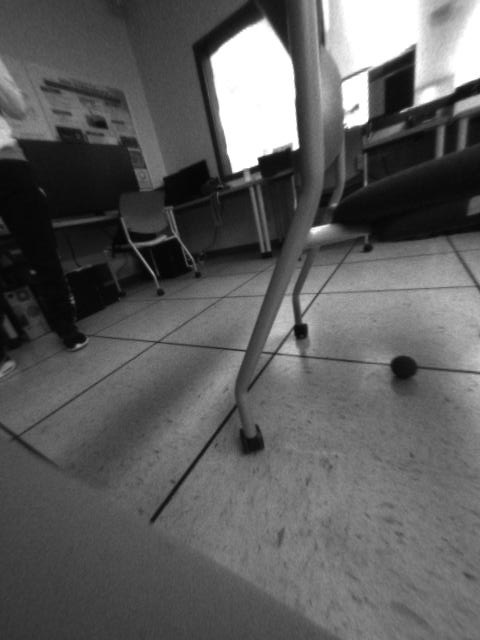dogtoy: (384, 346, 425, 388)
